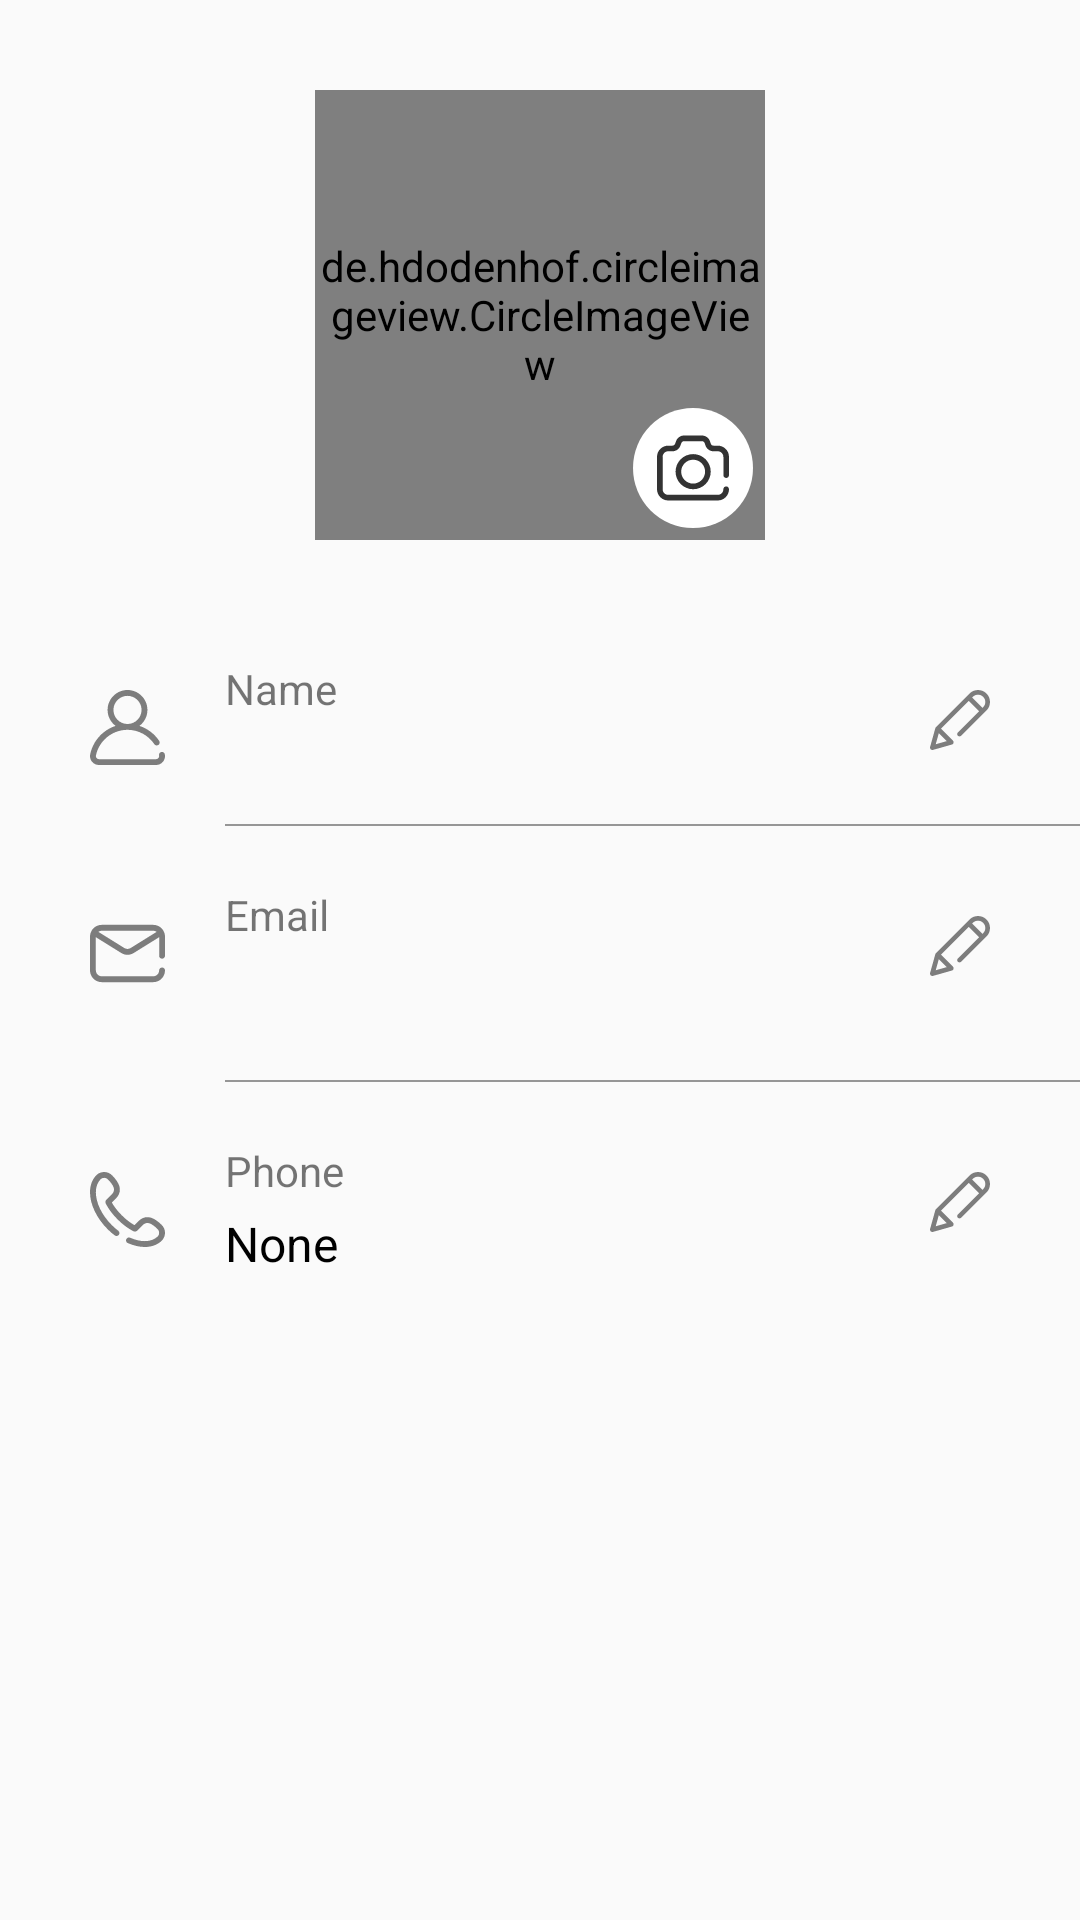

Screen size 1080 × 1920. Icon name, then its center in pixels as (x=x, y=y):
edit: (x=960, y=720), (x=960, y=946), (x=960, y=1202)
photograph: (x=693, y=468)
user: (x=127, y=727)
